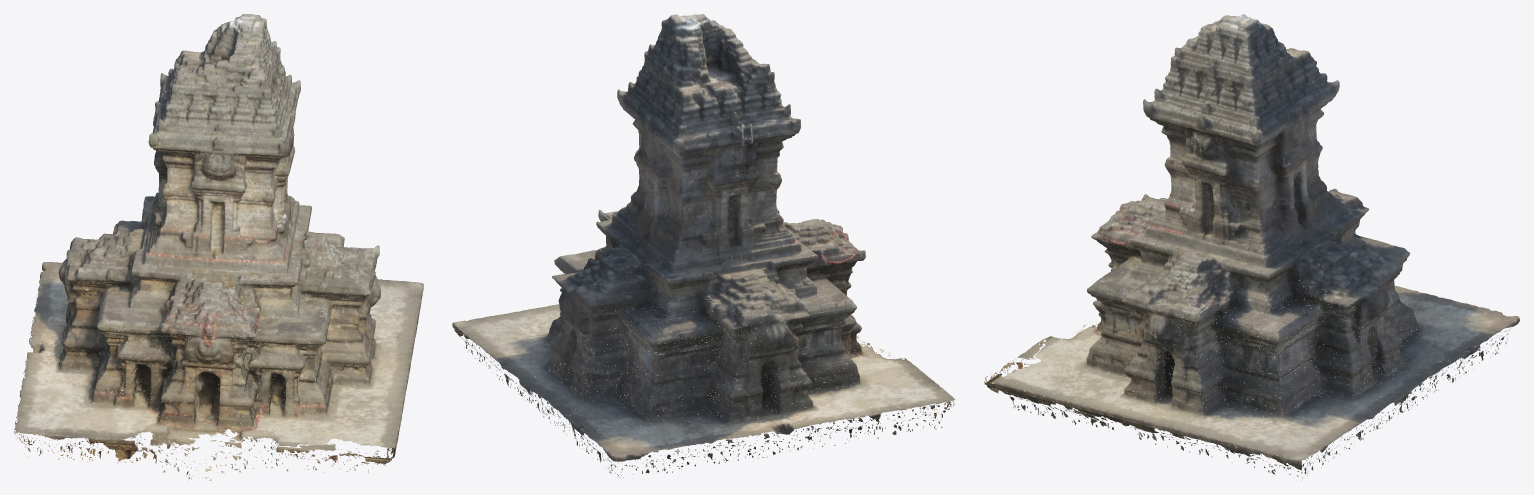
The model's file is candi_singosari_v1(3).glb.
The picture shows the model from 3 angles, left to right: view 1: azimuth 30°, elevation 25°; view 2: azimuth 150°, elevation 25°; view 3: azimuth 270°, elevation 25°; orthographic projection.
Visible parts, largest first — view 1: Model_material0_0_0.010, Model_material0_0_0.014, Model_material0_0_0.015, Model_material0_0_0.013, Model_material0_0_0.012, Model_material0_0_0.011, Model_material0_0_0.016, Model_material0_0_1.010, Model_material0_0_1.014, Model_material0_0_1.013, Model_material0_0_1.015, Model_material0_0_1.012 (+2 smaller); view 2: Model_material0_0_0.011, Model_material0_0_0.014, Model_material0_0_0.015, Model_material0_0_0.010, Model_material0_0_0.012, Model_material0_0_0.013, Model_material0_0_0.016, Model_material0_0_1.011, Model_material0_0_1.014, Model_material0_0_1.010, Model_material0_0_1.015, Model_material0_0_1.012 (+2 smaller); view 3: Model_material0_0_0.010, Model_material0_0_0.011, Model_material0_0_0.014, Model_material0_0_0.015, Model_material0_0_0.013, Model_material0_0_0.016, Model_material0_0_0.012, Model_material0_0_1.010, Model_material0_0_1.014, Model_material0_0_1.011, Model_material0_0_1.015, Model_material0_0_1.013 (+2 smaller).
Boxes of the visible parts, x1,y1,x2,y2 form: Model_material0_0_0.010: (14,262,423,480); Model_material0_0_0.014: (59,46,379,349); Model_material0_0_0.015: (144,14,298,265); Model_material0_0_0.013: (58,80,380,388); Model_material0_0_0.012: (61,121,380,426); Model_material0_0_0.011: (15,200,379,451); Model_material0_0_0.016: (148,14,300,161); Model_material0_0_1.010: (16,262,419,480); Model_material0_0_1.014: (65,137,379,351); Model_material0_0_1.013: (59,84,380,388); Model_material0_0_1.015: (145,14,293,264); Model_material0_0_1.012: (62,230,378,426); Model_material0_0_0.011: (547,208,955,455); Model_material0_0_0.014: (554,45,865,338); Model_material0_0_0.015: (614,14,800,263); Model_material0_0_0.010: (452,248,954,477); Model_material0_0_0.012: (550,91,865,419); Model_material0_0_0.013: (554,82,856,383); Model_material0_0_0.016: (618,14,800,156); Model_material0_0_1.011: (549,209,952,455); Model_material0_0_1.014: (556,54,864,338); Model_material0_0_1.010: (454,305,951,477); Model_material0_0_1.015: (615,15,799,263); Model_material0_0_1.012: (550,95,858,418); Model_material0_0_0.010: (984,291,1519,477); Model_material0_0_0.011: (994,234,1515,416); Model_material0_0_0.014: (1091,67,1402,330); Model_material0_0_0.015: (1143,17,1343,258); Model_material0_0_0.013: (1087,118,1409,374); Model_material0_0_0.016: (1143,14,1339,148); Model_material0_0_0.012: (1088,133,1416,409); Model_material0_0_1.010: (985,297,1518,480); Model_material0_0_1.014: (1096,71,1397,321); Model_material0_0_1.011: (1005,237,1513,415); Model_material0_0_1.015: (1147,20,1340,256); Model_material0_0_1.013: (1087,121,1404,369).
Bounding box in the file's own units: 19.17 × 14.97 × 19.2.
1 material, 1 textured.
